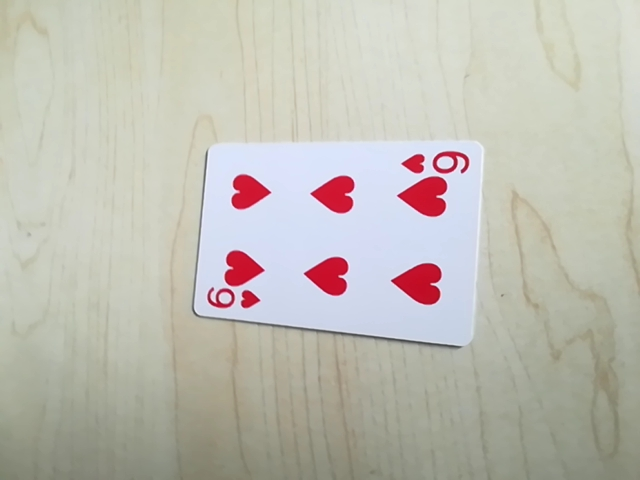hx 6: (398, 145, 470, 178), (201, 287, 264, 317)
